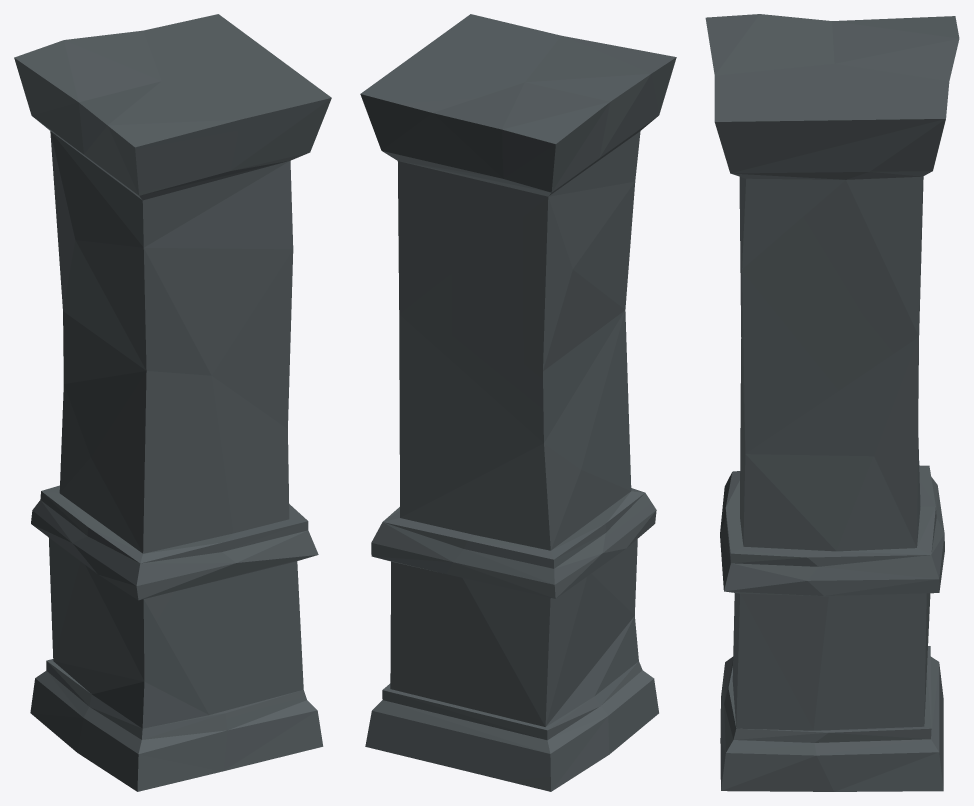
Rendered from Ruins_02.fbx.
3 renders of one model, left to right at view 1: azimuth 30°, elevation 25°; view 2: azimuth 150°, elevation 25°; view 3: azimuth 270°, elevation 25°, orthographic. The views are drawn at different scales.
Parts seen in each view (by area): view 1: Ruins_02; view 2: Ruins_02; view 3: Ruins_02.
Boxes of the visible parts, x1,y1,x2,y2 form: Ruins_02: [14, 14, 331, 791]; Ruins_02: [360, 14, 676, 791]; Ruins_02: [705, 14, 959, 791].
Size of the model in its own units: 59.21 by 185 by 62.22.
